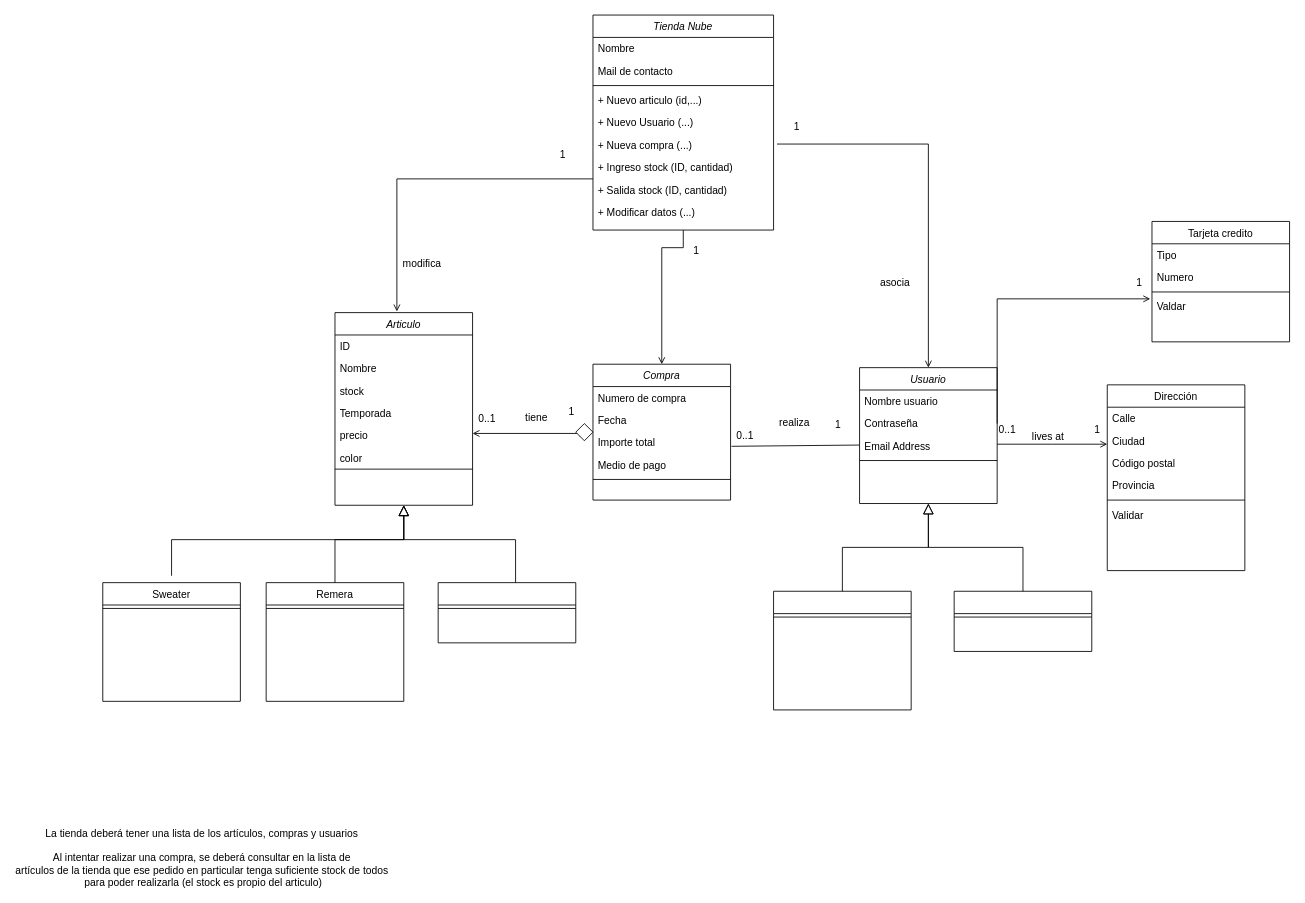
The diagram is 1305 pixels wide and 903 high, and some of its shapes have lost their labels. Each missing label, with the centre of its shape:
"Administrador" goes at (842,650).
"Cliente" goes at (1022,620).
"Pantalon" goes at (506,612).
